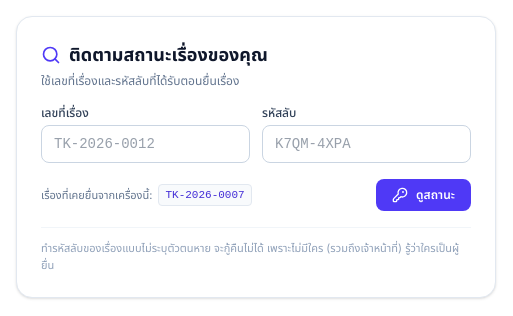
Test: PortalTrack › lists codes filed from this browser (never the secret) and fills them in
Click the button "TK-2026-0007" at (205, 195), box [158,184,252,206]
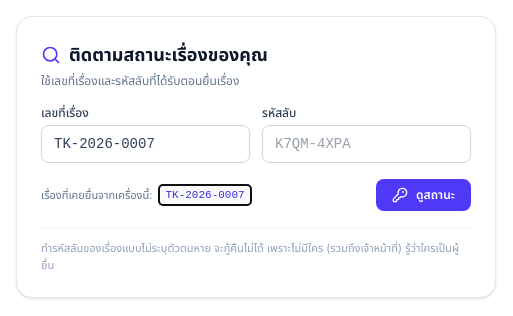
expect the field with placeholder "TK-2026-0012" holds "TK-2026-0007": met, box [41,125,250,163]
